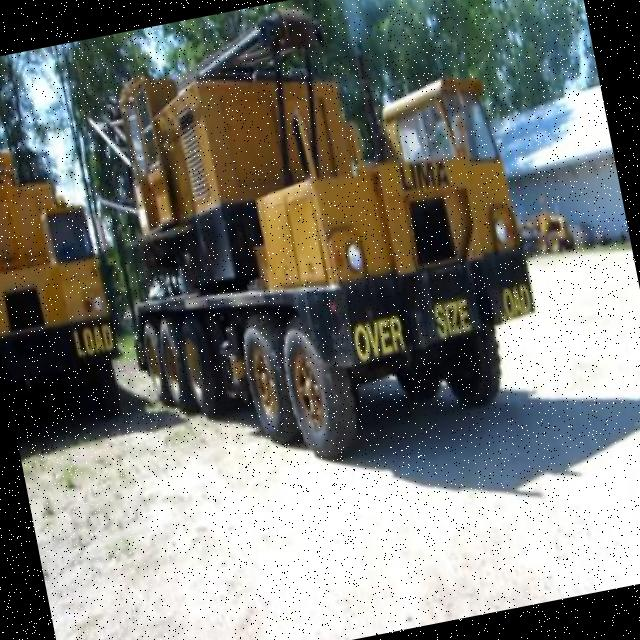Mobile Crane: (79, 0, 557, 498)
